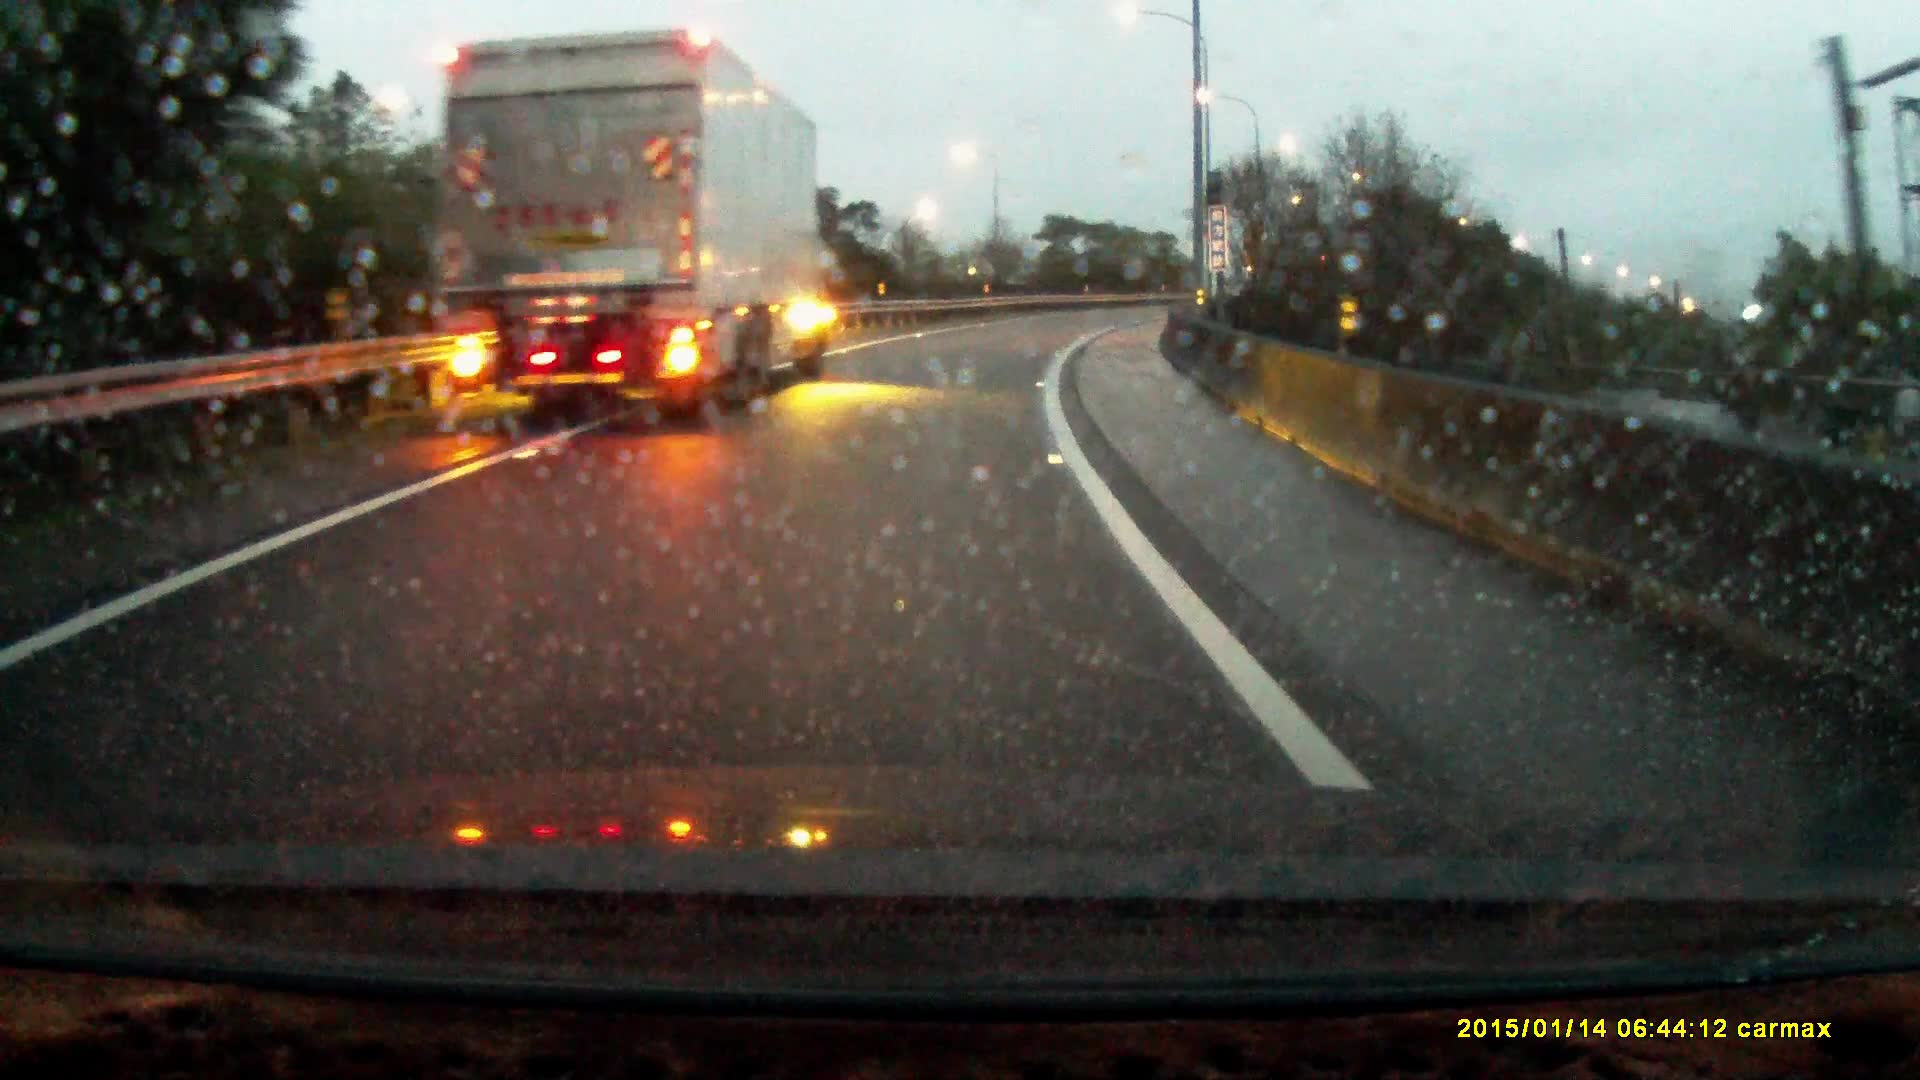vehicle: (431, 24, 833, 406)
